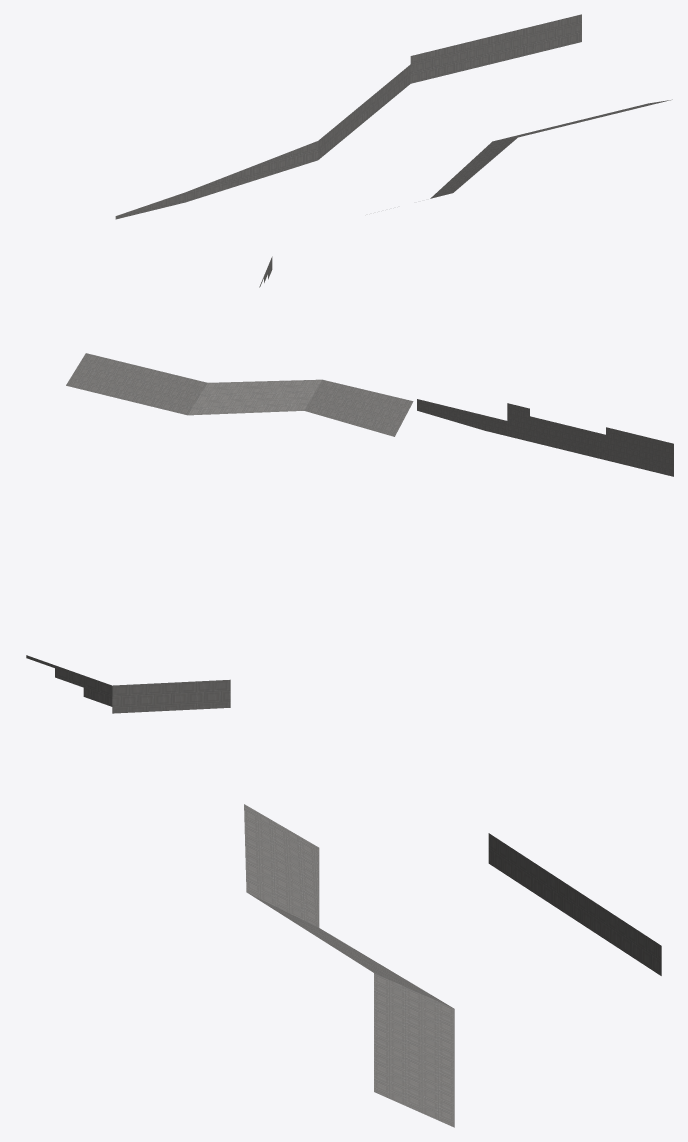
Rendered from kd_stage_135ebf_1_10.glb.
3 renders of one model, top to bottom at view 1: azimuth 30°, elevation 25°; view 2: azimuth 150°, elevation 25°; view 3: azimuth 270°, elevation 25°, orthographic. The views are drawn at different scales.
Parts seen in each view (by area): view 1: kd_stage_135ebf_1_10; view 2: kd_stage_135ebf_1_10; view 3: kd_stage_135ebf_1_10.
Part boxes in pixels (x1,y1,x2,y2): kd_stage_135ebf_1_10: [115, 14, 672, 287]; kd_stage_135ebf_1_10: [66, 353, 673, 476]; kd_stage_135ebf_1_10: [26, 655, 661, 1127].
Size of the model in its own units: 22.65 by 1.56 by 11.28.
Materials: 1 (1 with a texture image).
